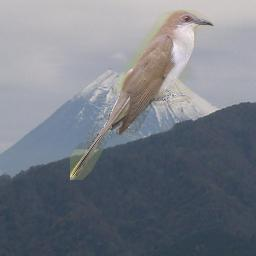Cuckoo: (70, 10, 215, 180)
